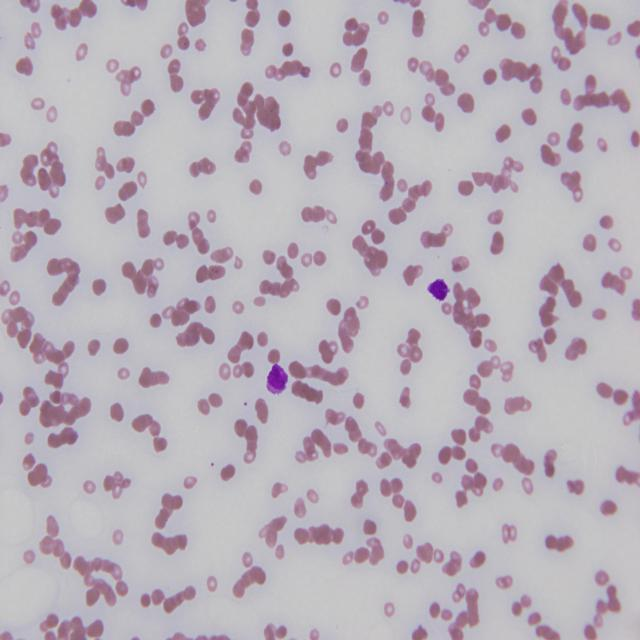cell: (266, 363, 288, 394), (428, 279, 449, 301)
